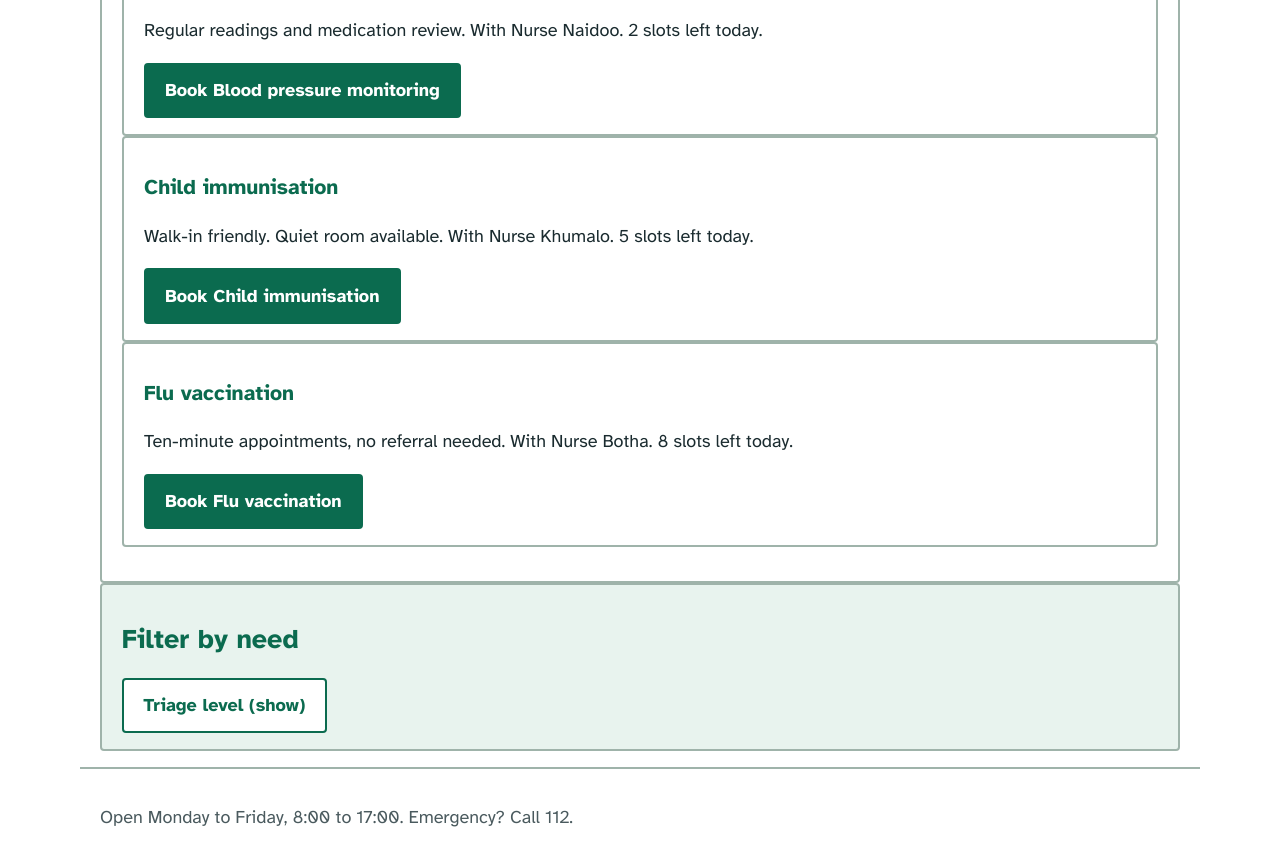
filter accordion and toggles update ARIA state and live count
(page scrolled)
Click the button "Triage level (show)". click: (224, 706)
box: [122,678,326,733]
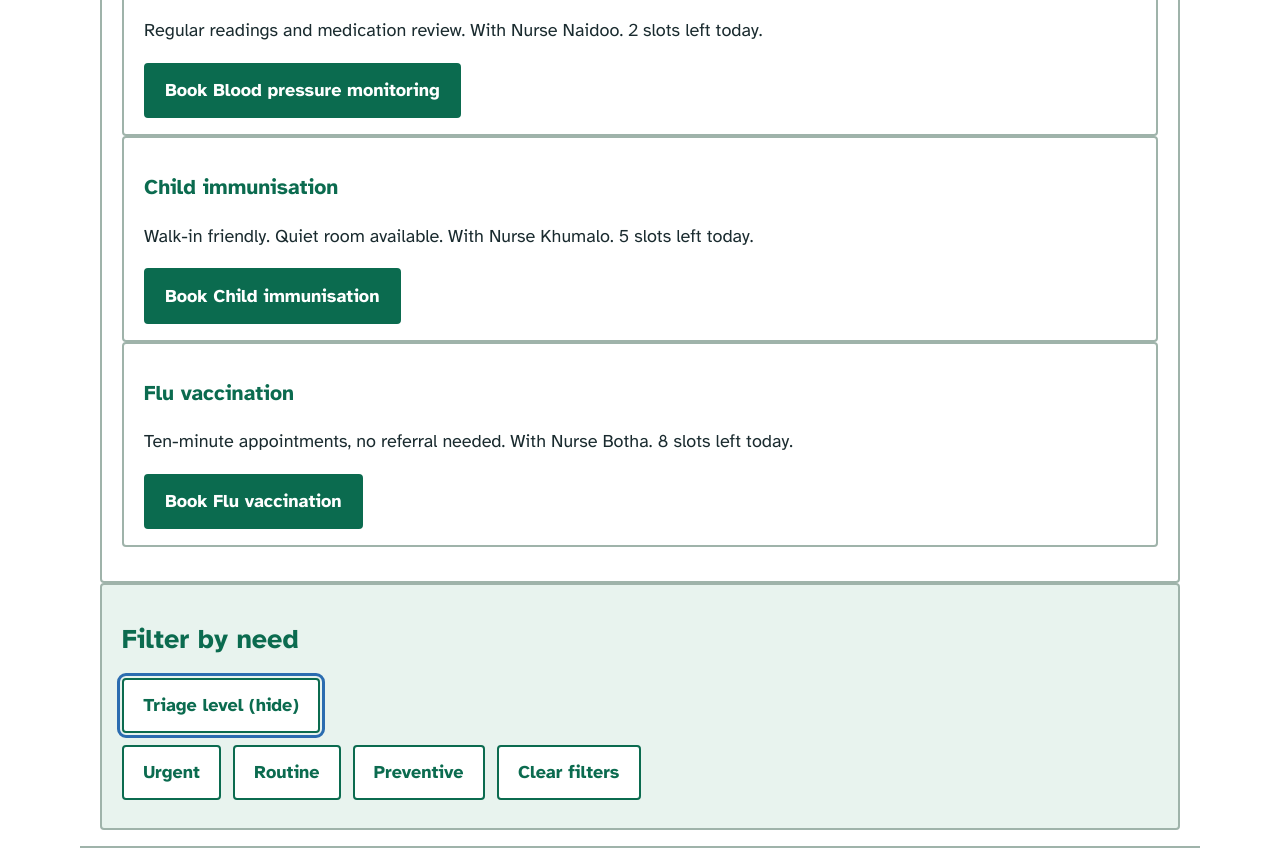
Expected: the button "Triage level (hide)" is expanded, [122,678,320,733]
Click the button "Urgent". click: (172, 773)
box: [122,745,221,800]
(page scrolled)
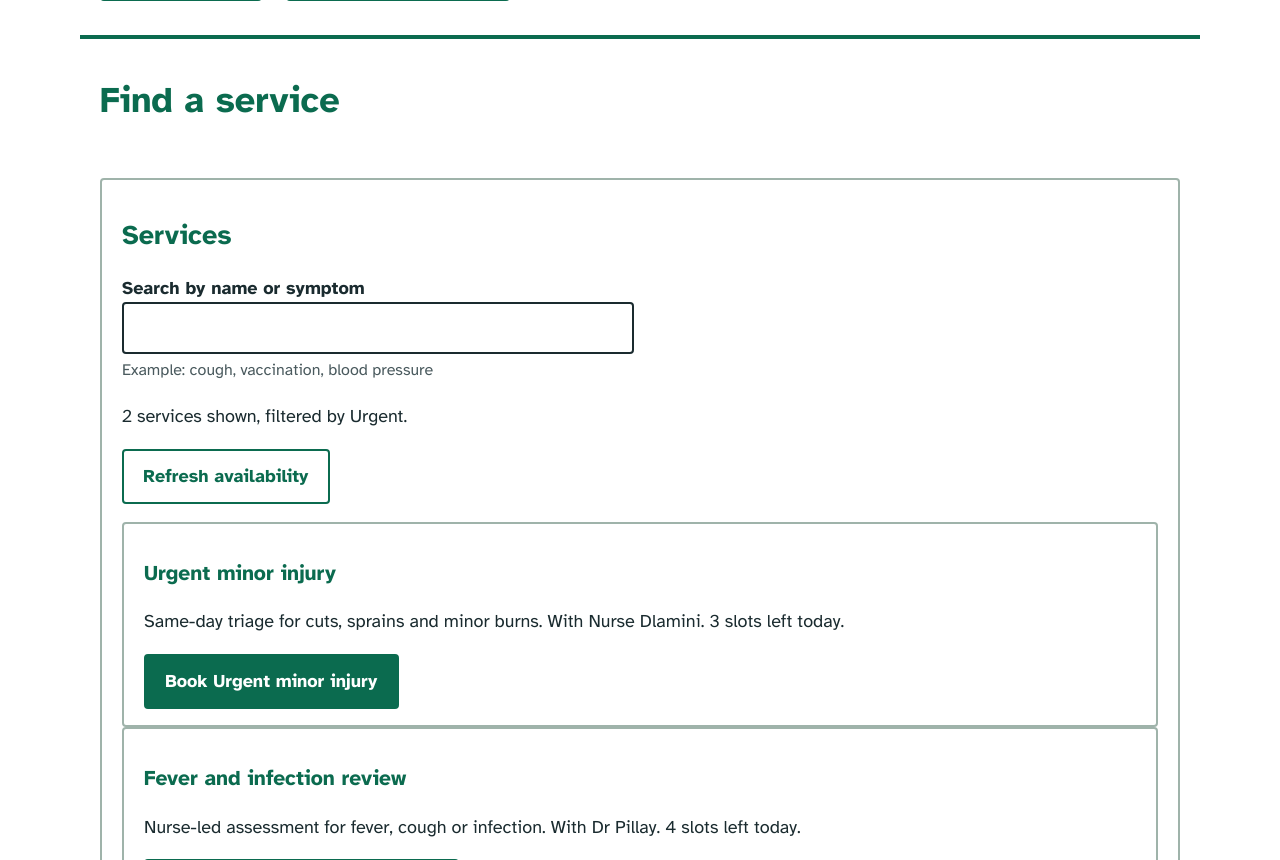
Expected: the message shows "2 services shown, filtered by Urgent", [122,405,407,427]
